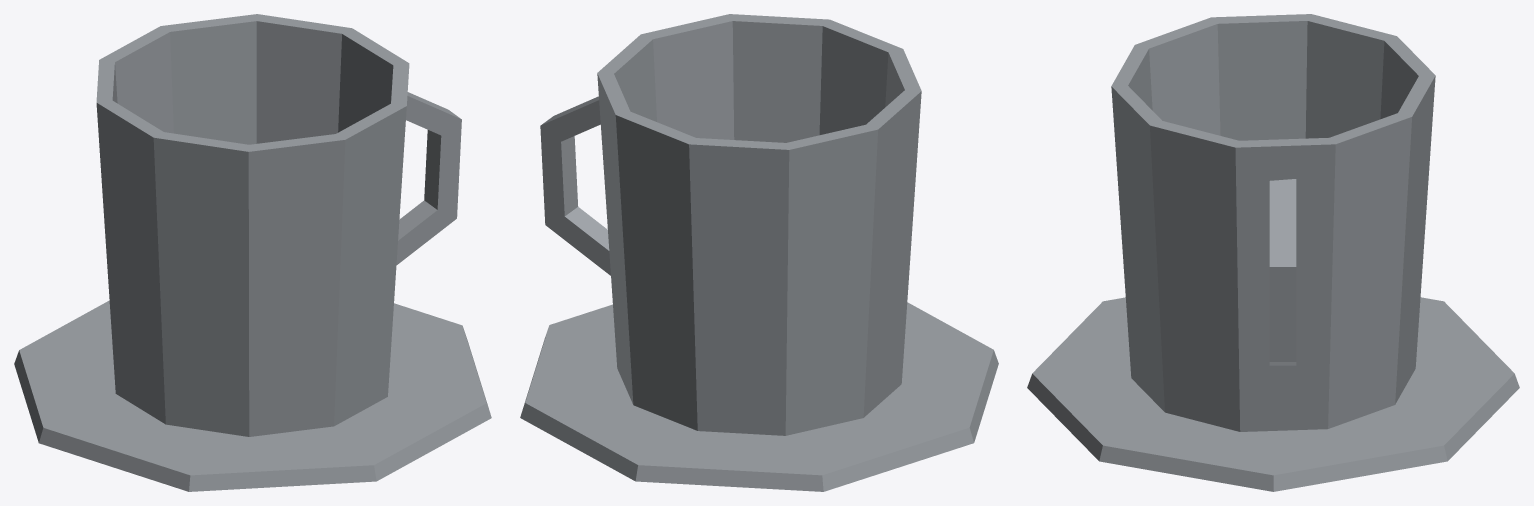
File: Cup_2.fbx
3 views of the same model, side by side, from view 1: azimuth 30°, elevation 25°; view 2: azimuth 150°, elevation 25°; view 3: azimuth 270°, elevation 25° (orthographic).
Parts seen in each view (by area): view 1: polySurface1540; view 2: polySurface1540; view 3: polySurface1540.
Boxes of the visible parts, bbox=[...] form: polySurface1540: bbox=[14, 14, 491, 491]; polySurface1540: bbox=[520, 14, 998, 491]; polySurface1540: bbox=[1027, 14, 1519, 491].
Size of the model in its own units: 0.303 by 0.2083 by 0.303.
Materials: 1 (1 with a texture image).
